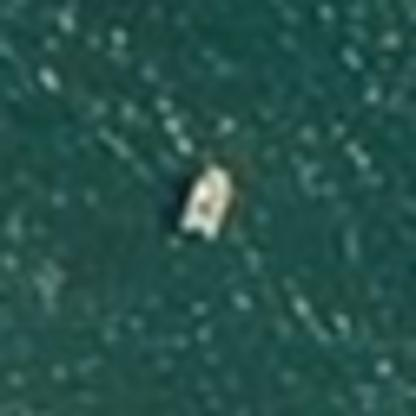ship: (162, 158, 250, 244)
